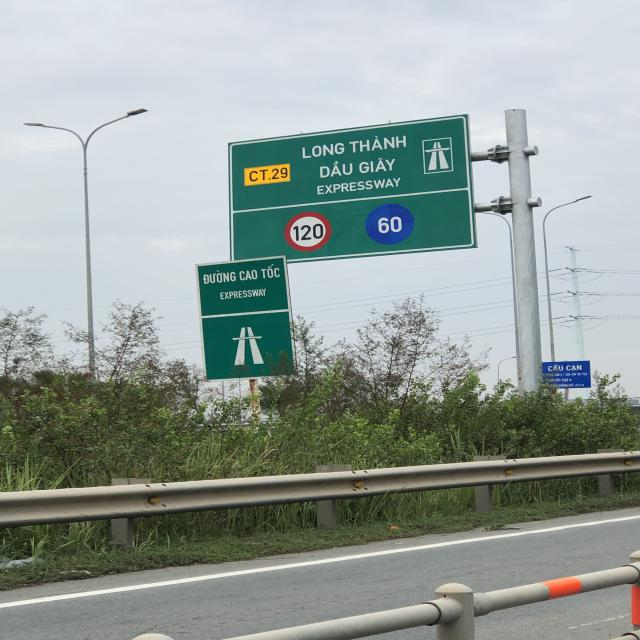Bien bao toc do toi thieu cho phep: (364, 201, 416, 246)
